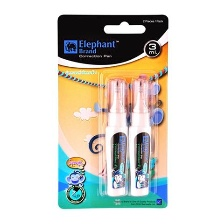book: (55, 11, 170, 211)
correction_fluid: (127, 77, 154, 198), (103, 77, 129, 198)
